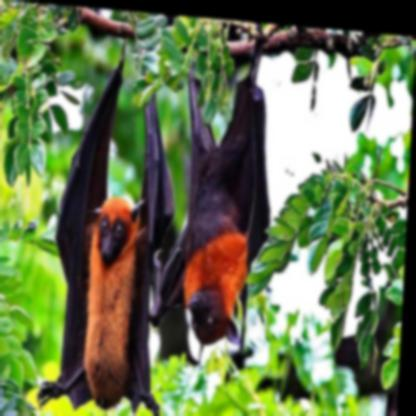Bat: (41, 27, 178, 415), (159, 28, 282, 363)
